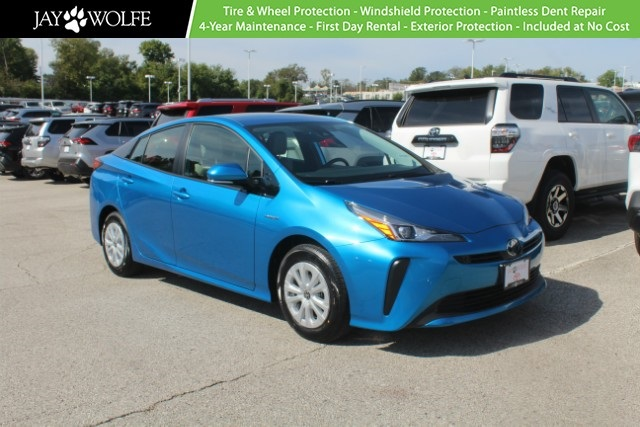Toyota Prius: (90, 111, 545, 341)
